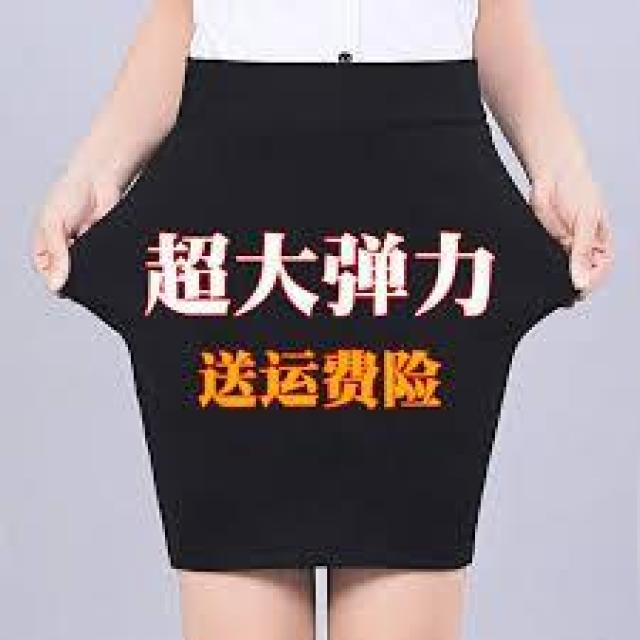skirt: (83, 47, 566, 639)
